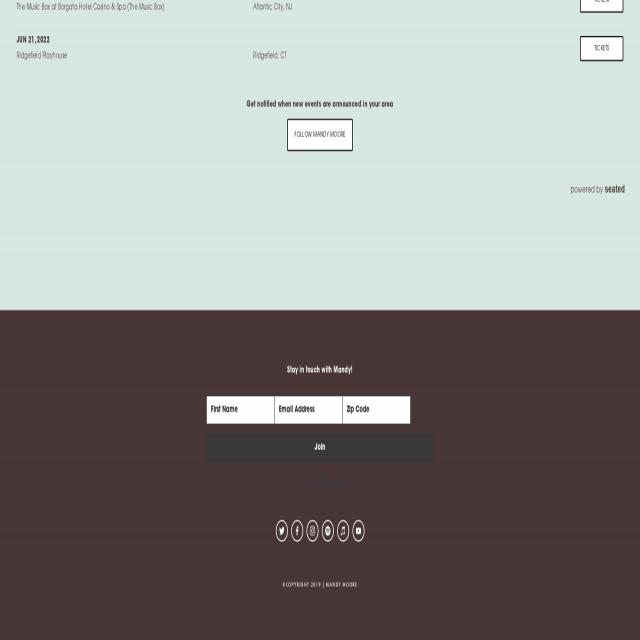button: (207, 433, 433, 463), (287, 119, 353, 151), (581, 37, 624, 61), (580, 0, 624, 11), (277, 521, 287, 540), (292, 521, 302, 540), (307, 521, 317, 540), (323, 521, 333, 540), (338, 521, 348, 540), (353, 521, 363, 540)
field: (207, 396, 275, 424), (275, 396, 343, 424), (343, 396, 411, 424)
